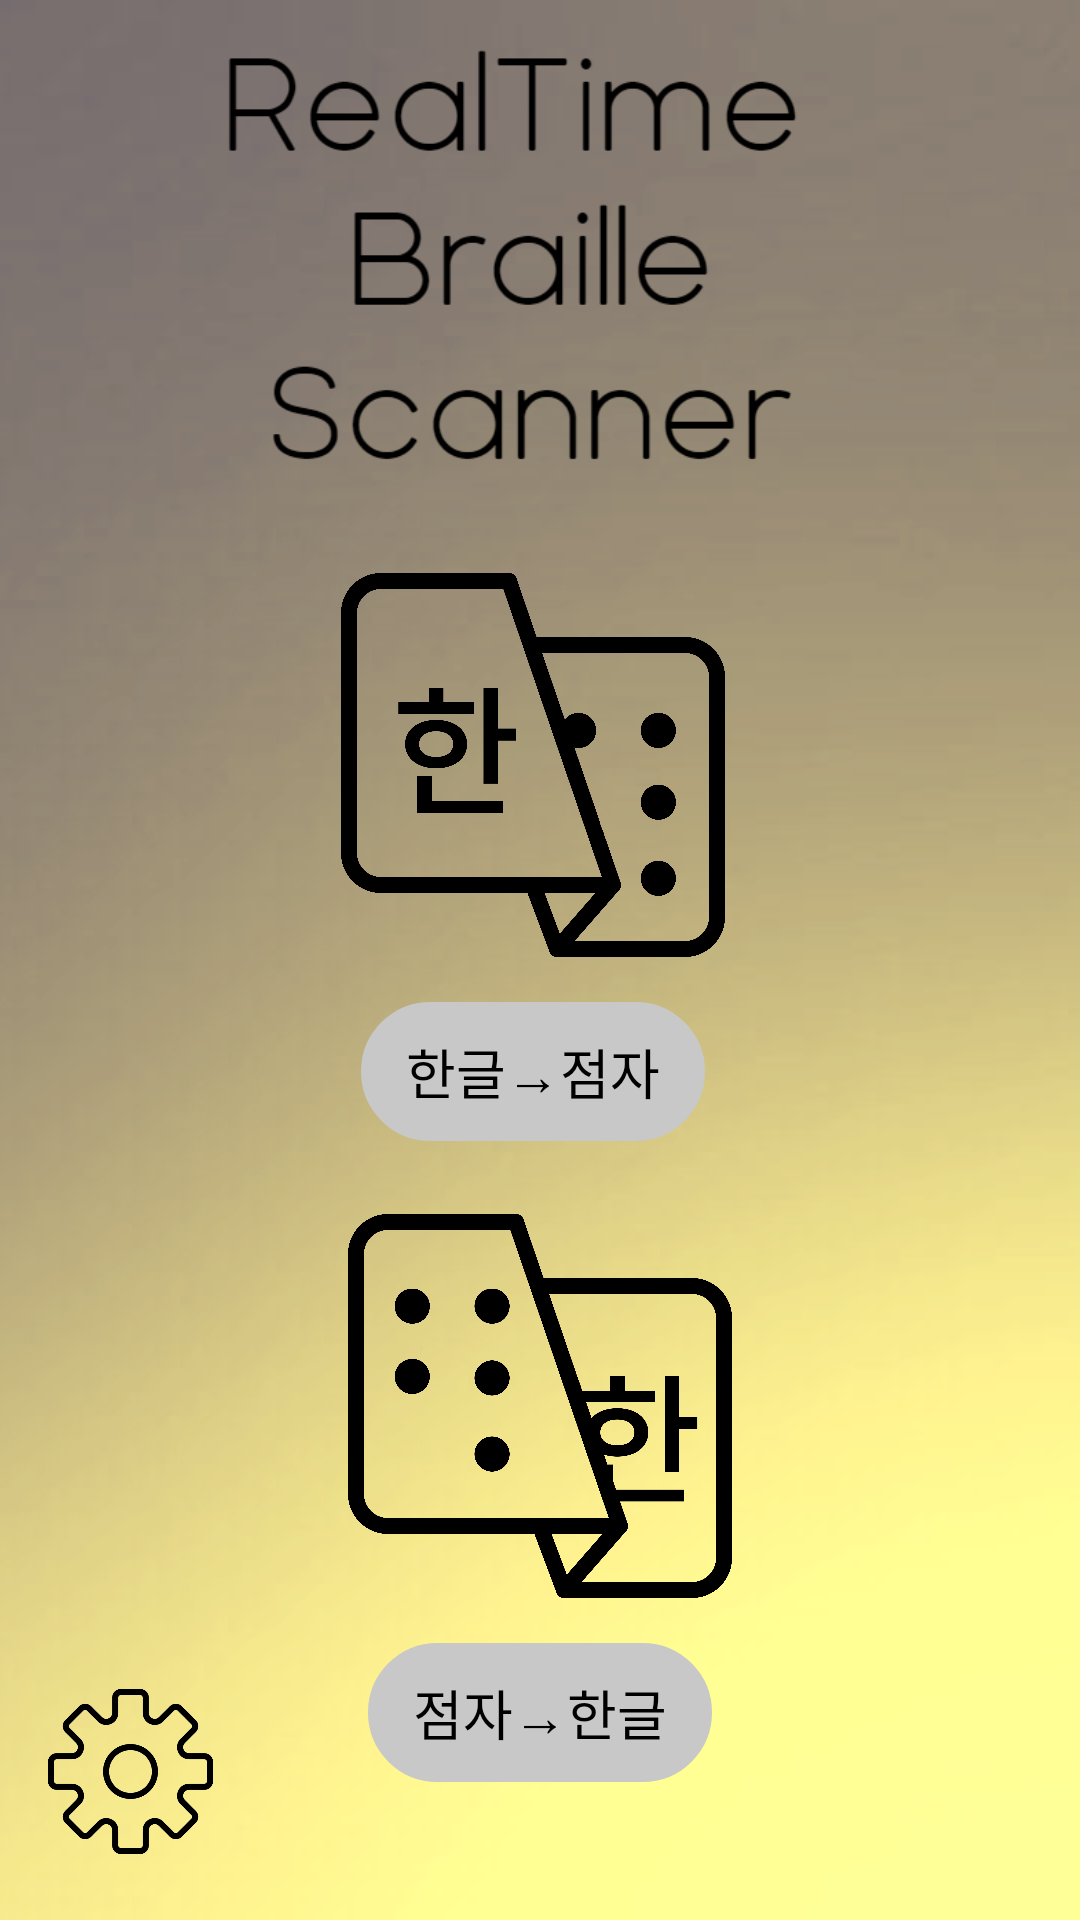

Locate icon controls on the screen. Image size 1080×1920, boxes as [left=x1, top=y1, right=x2, bottom=y2].
setting: [left=48, top=1689, right=213, bottom=1854]
